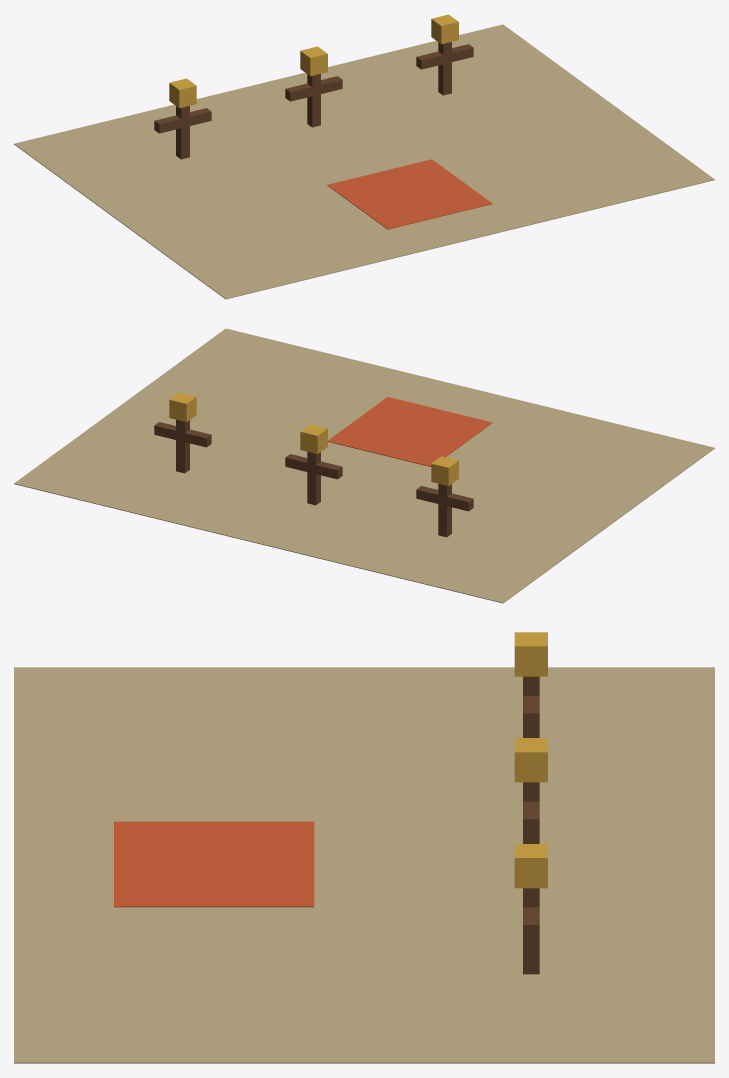
Rendered from crown_road_trainingyard.glb.
3 views of the same model, one above another, from view 1: azimuth 30°, elevation 25°; view 2: azimuth 150°, elevation 25°; view 3: azimuth 270°, elevation 25° (orthographic). The views are drawn at different scales.
Visible parts, largest first — view 1: crown_road_trainingyard; view 2: crown_road_trainingyard; view 3: crown_road_trainingyard.
Part boxes in pixels (x1,y1,x2,y2): crown_road_trainingyard: [14, 14, 714, 299]; crown_road_trainingyard: [14, 328, 714, 603]; crown_road_trainingyard: [14, 632, 714, 1063].
Bounding box in the file's own units: 56 × 8 × 42.
